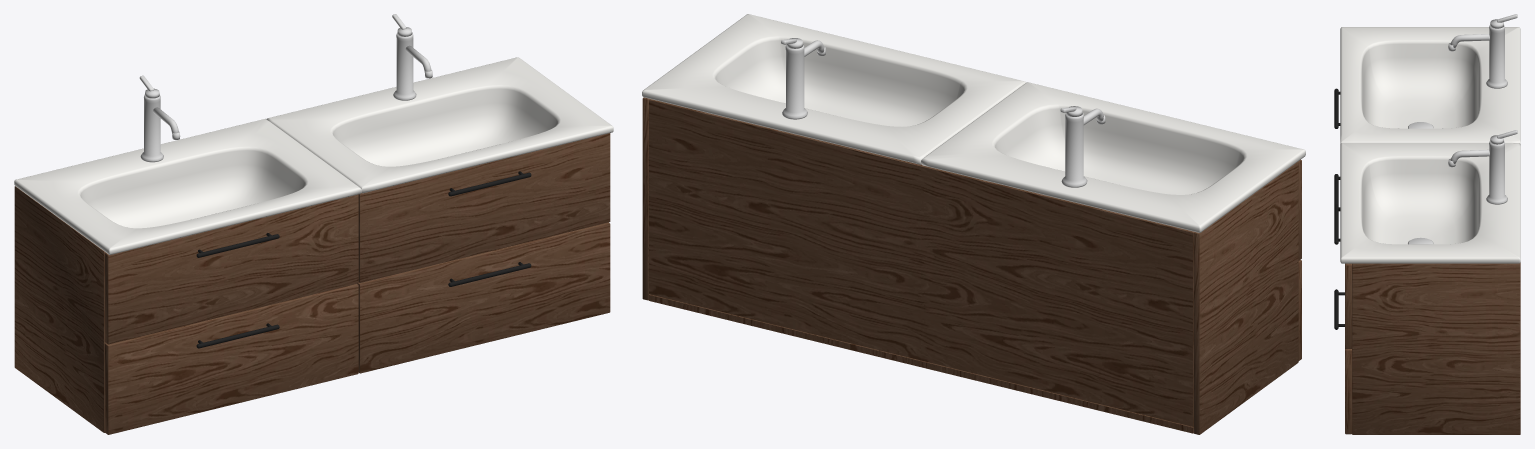
Rendered from mueble_lavabo_doble_140_nogal.glb.
3 renders of one model, left to right at view 1: azimuth 30°, elevation 25°; view 2: azimuth 150°, elevation 25°; view 3: azimuth 270°, elevation 25°, orthographic. The views are drawn at different scales.
Parts seen in each view (by area): view 1: mueble_lavabo_doble_140_nogal; view 2: mueble_lavabo_doble_140_nogal; view 3: mueble_lavabo_doble_140_nogal.
Part boxes in pixels (x1,y1,x2,y2): mueble_lavabo_doble_140_nogal: [14, 14, 613, 434]; mueble_lavabo_doble_140_nogal: [642, 14, 1305, 434]; mueble_lavabo_doble_140_nogal: [1334, 14, 1520, 434].
Size of the model in its own units: 1.4 by 0.6963 by 0.4755.
Materials: 4 (1 with a texture image).
